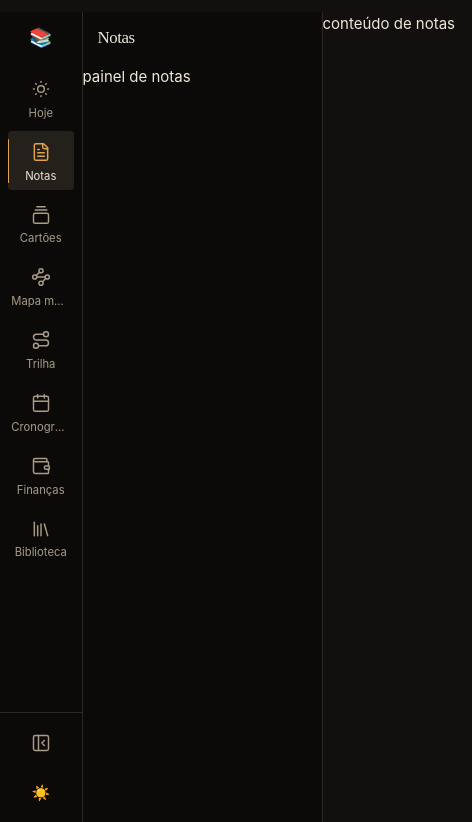
it: AppShell › recolher o painel esconde a coluna e oferece mostrar de novo
This screenshot has width=472, height=822.
Click the button named "Recolher painel" at (41, 743), box [18,721,63,766]
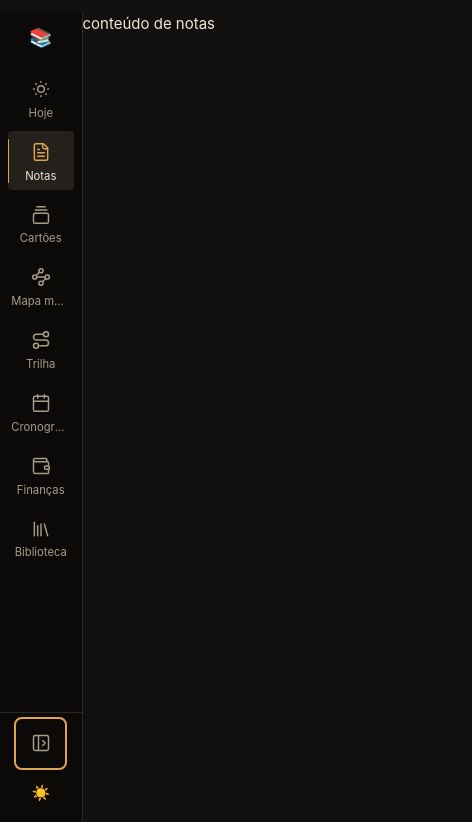
Expected: the element showing "conteúdo de notas" is shown, [82,14,215,33]
Click the button named "Mostrar painel" at (41, 743), box [18,721,63,766]
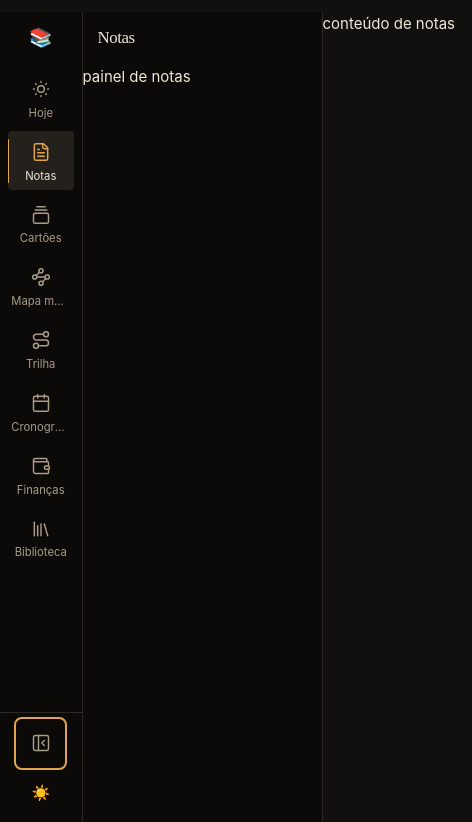
Expected: the element "Notas" is shown, [82,12,322,821]
